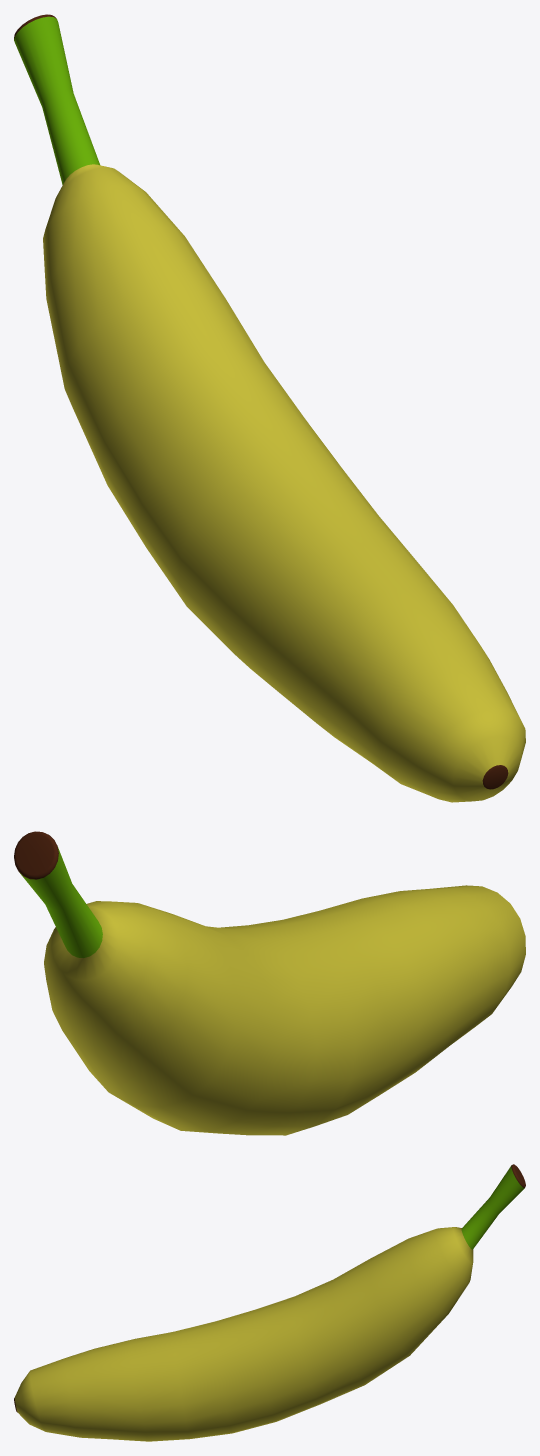
Rendered from banana.fbx.
The picture shows the model from 3 angles, top to bottom: view 1: azimuth 30°, elevation 25°; view 2: azimuth 150°, elevation 25°; view 3: azimuth 270°, elevation 25°; orthographic projection. The views are drawn at different scales.
Visible parts, largest first — view 1: pCylinder1; view 2: pCylinder1; view 3: pCylinder1.
Boxes of the visible parts, x1,y1,x2,y2 form: pCylinder1: (14,14,525,802); pCylinder1: (14,831,525,1135); pCylinder1: (14,1164,525,1441).
Size of the model in its own units: 216 by 570 by 987.
